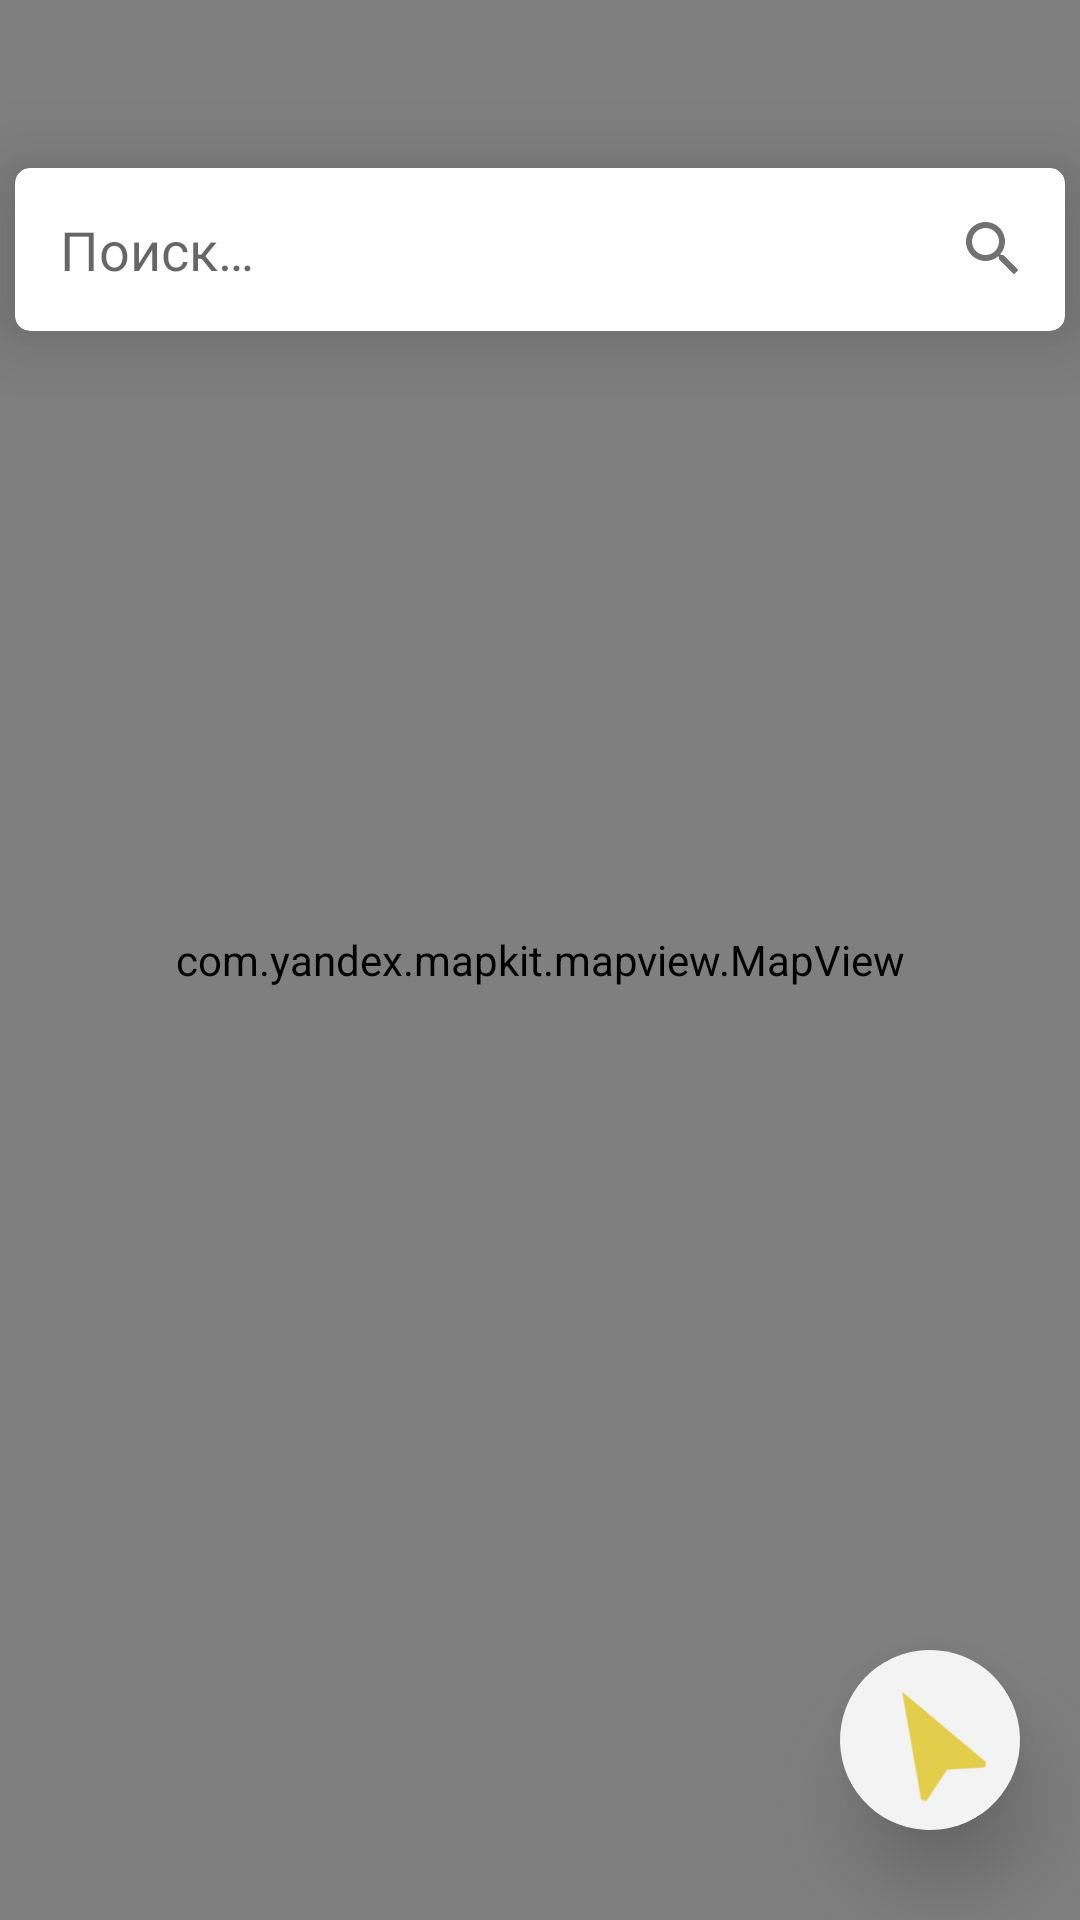

Icons on this 1080 × 1920 Android screen, each with the point to tap as point (x, y):
search: point (992, 248)
